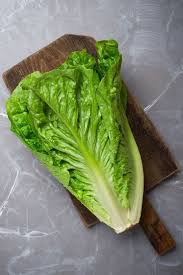lettuce: (8, 52, 164, 231)
